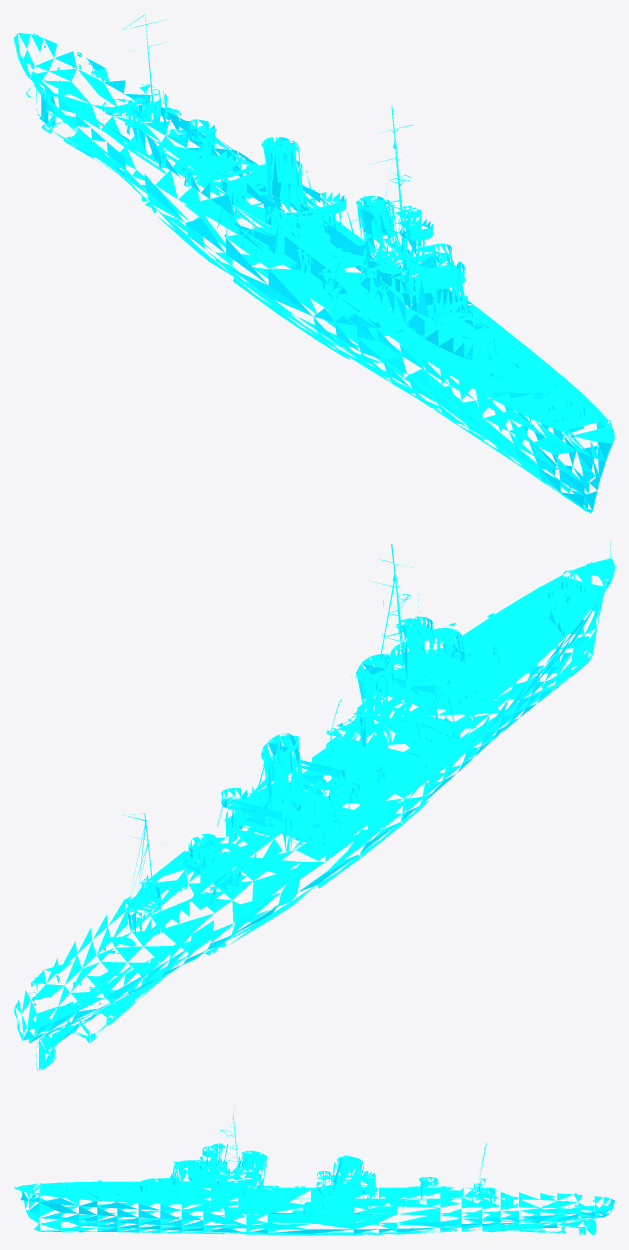
Rendered from Azur_Tashkent.glb.
3 views of the same model, one above another, from view 1: azimuth 30°, elevation 25°; view 2: azimuth 150°, elevation 25°; view 3: azimuth 270°, elevation 25° (orthographic). The views are drawn at different scales.
Size of the model in its own units: 0.9202 by 2.33 by 9.31.
